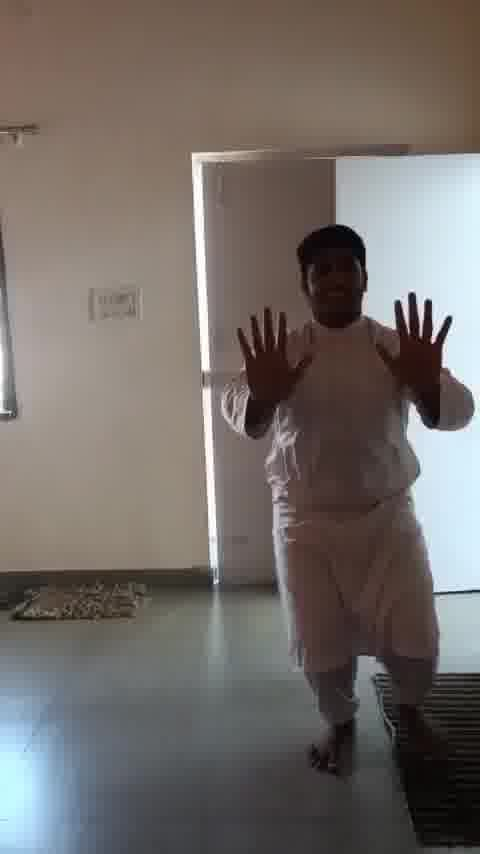duck: (204, 225, 458, 774)
